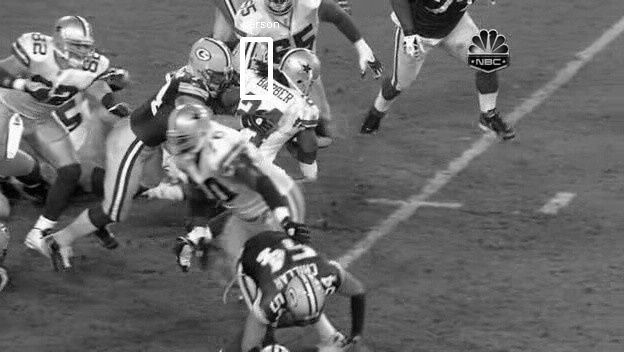person: (286, 49, 321, 94), (285, 49, 320, 94), (287, 49, 322, 94), (286, 48, 321, 93), (286, 50, 321, 95)
target_negative: (147, 174, 283, 345), (549, 54, 594, 294), (413, 297, 602, 336), (395, 263, 457, 322), (457, 99, 562, 123), (523, 213, 539, 234)
